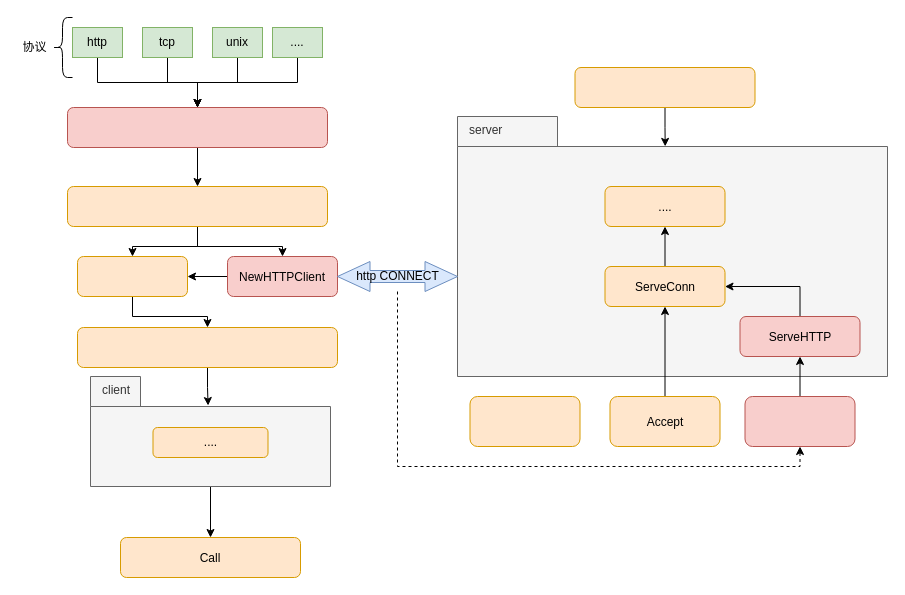
This 905x595 diagram has some shape labels left out. Here are the shapes that lost their labels. From the top down, the centre of each, then its label:
At (x=664, y=87): "NewServer".
At (x=197, y=127): "XDial".
At (x=197, y=206): "Dial".
At (x=132, y=276): "NewClient".
At (x=207, y=347): "dialTimeout".
At (x=524, y=421): "RegisterService".
At (x=799, y=421): "HandleHTTP".
